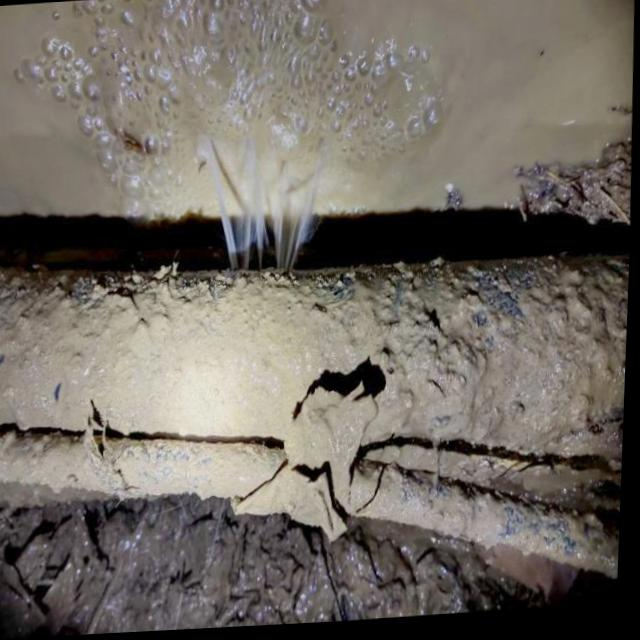leak: (200, 137, 322, 269)
